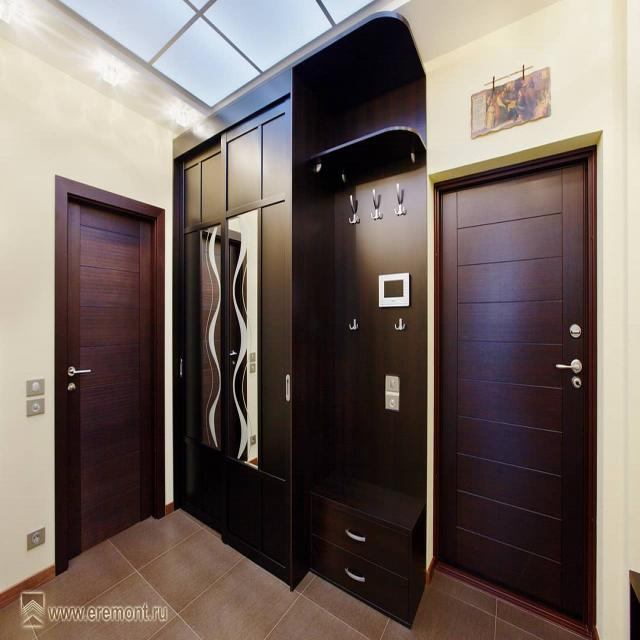close: (439, 186, 595, 618), (59, 188, 165, 554)
